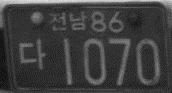0: (135, 38, 160, 86), (83, 37, 107, 86)
1: (61, 35, 73, 87)
6: (108, 10, 123, 32)
7: (106, 37, 131, 88)
8: (90, 10, 106, 34)
다: (18, 38, 47, 71)
전남_O: (47, 10, 88, 31)
